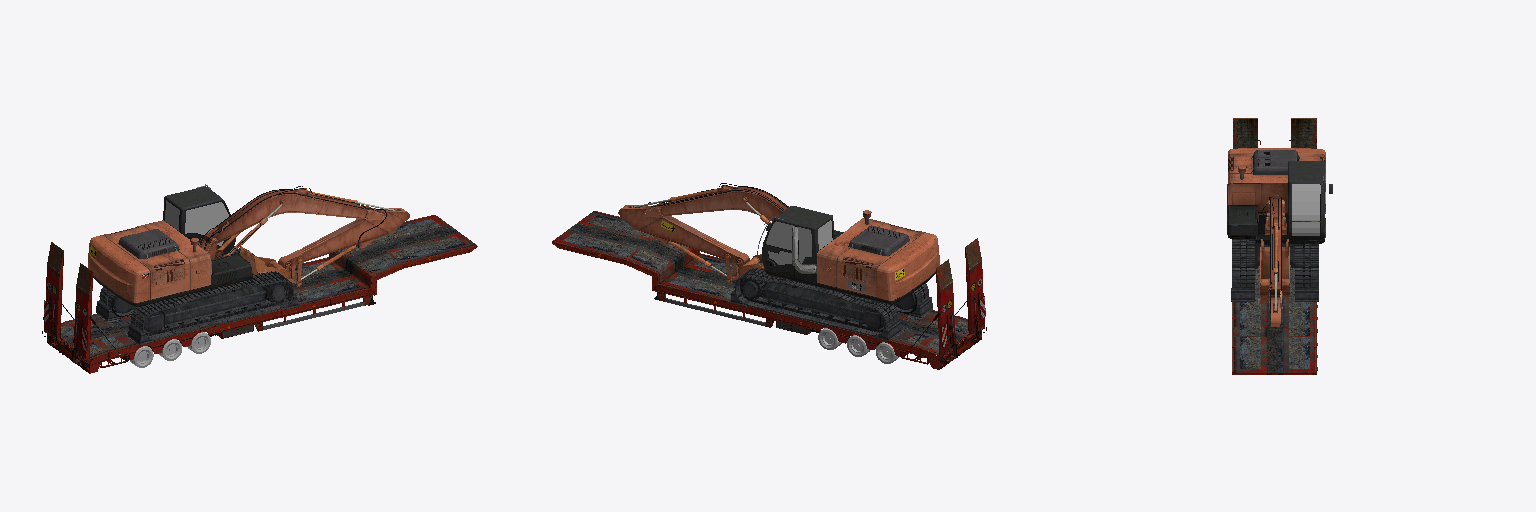
3 renders of one model, left to right at view 1: azimuth 30°, elevation 25°; view 2: azimuth 150°, elevation 25°; view 3: azimuth 270°, elevation 25°, orthographic.
Parts seen in each view (by area): view 1: Object_ow_excavator.jpg, Object_overweight.jpg, Object_glas.jpg, Object_cartrans.jpg; view 2: Object_ow_excavator.jpg, Object_overweight.jpg, Object_glas.jpg, Object_cartrans.jpg; view 3: Object_ow_excavator.jpg, Object_overweight.jpg, Object_glas.jpg.
Boxes of the visible parts, <box> form: Object_ow_excavator.jpg: <box>88,184,409,344</box>; Object_overweight.jpg: <box>42,215,477,373</box>; Object_glas.jpg: <box>165,200,228,245</box>; Object_cartrans.jpg: <box>130,332,210,367</box>; Object_ow_excavator.jpg: <box>618,183,939,340</box>; Object_overweight.jpg: <box>552,211,986,369</box>; Object_glas.jpg: <box>766,220,832,264</box>; Object_cartrans.jpg: <box>818,328,899,363</box>; Object_ow_excavator.jpg: <box>1227,148,1332,326</box>; Object_overweight.jpg: <box>1232,118,1317,374</box>; Object_glas.jpg: <box>1292,184,1320,235</box>.
Size of the model in its own units: 2.5 by 0.7446 by 0.5841.
8 materials, 5 textured.